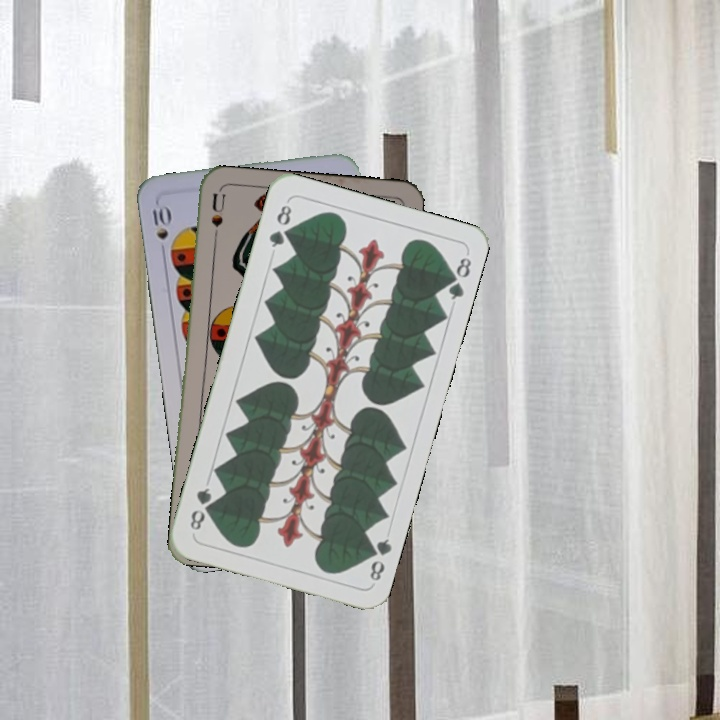G8: (363, 534, 395, 584), (265, 200, 294, 250)
S10: (148, 201, 173, 259)
SU: (207, 190, 228, 250)
